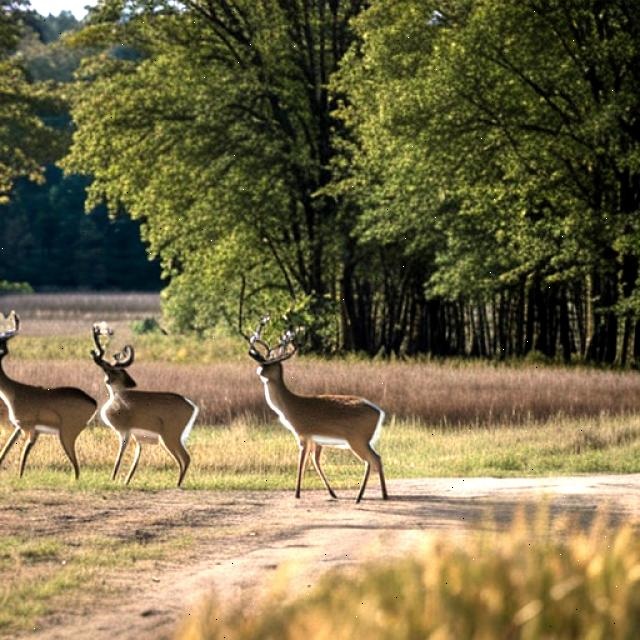deer: (250, 322, 379, 486), (74, 322, 209, 478), (0, 301, 89, 486)
